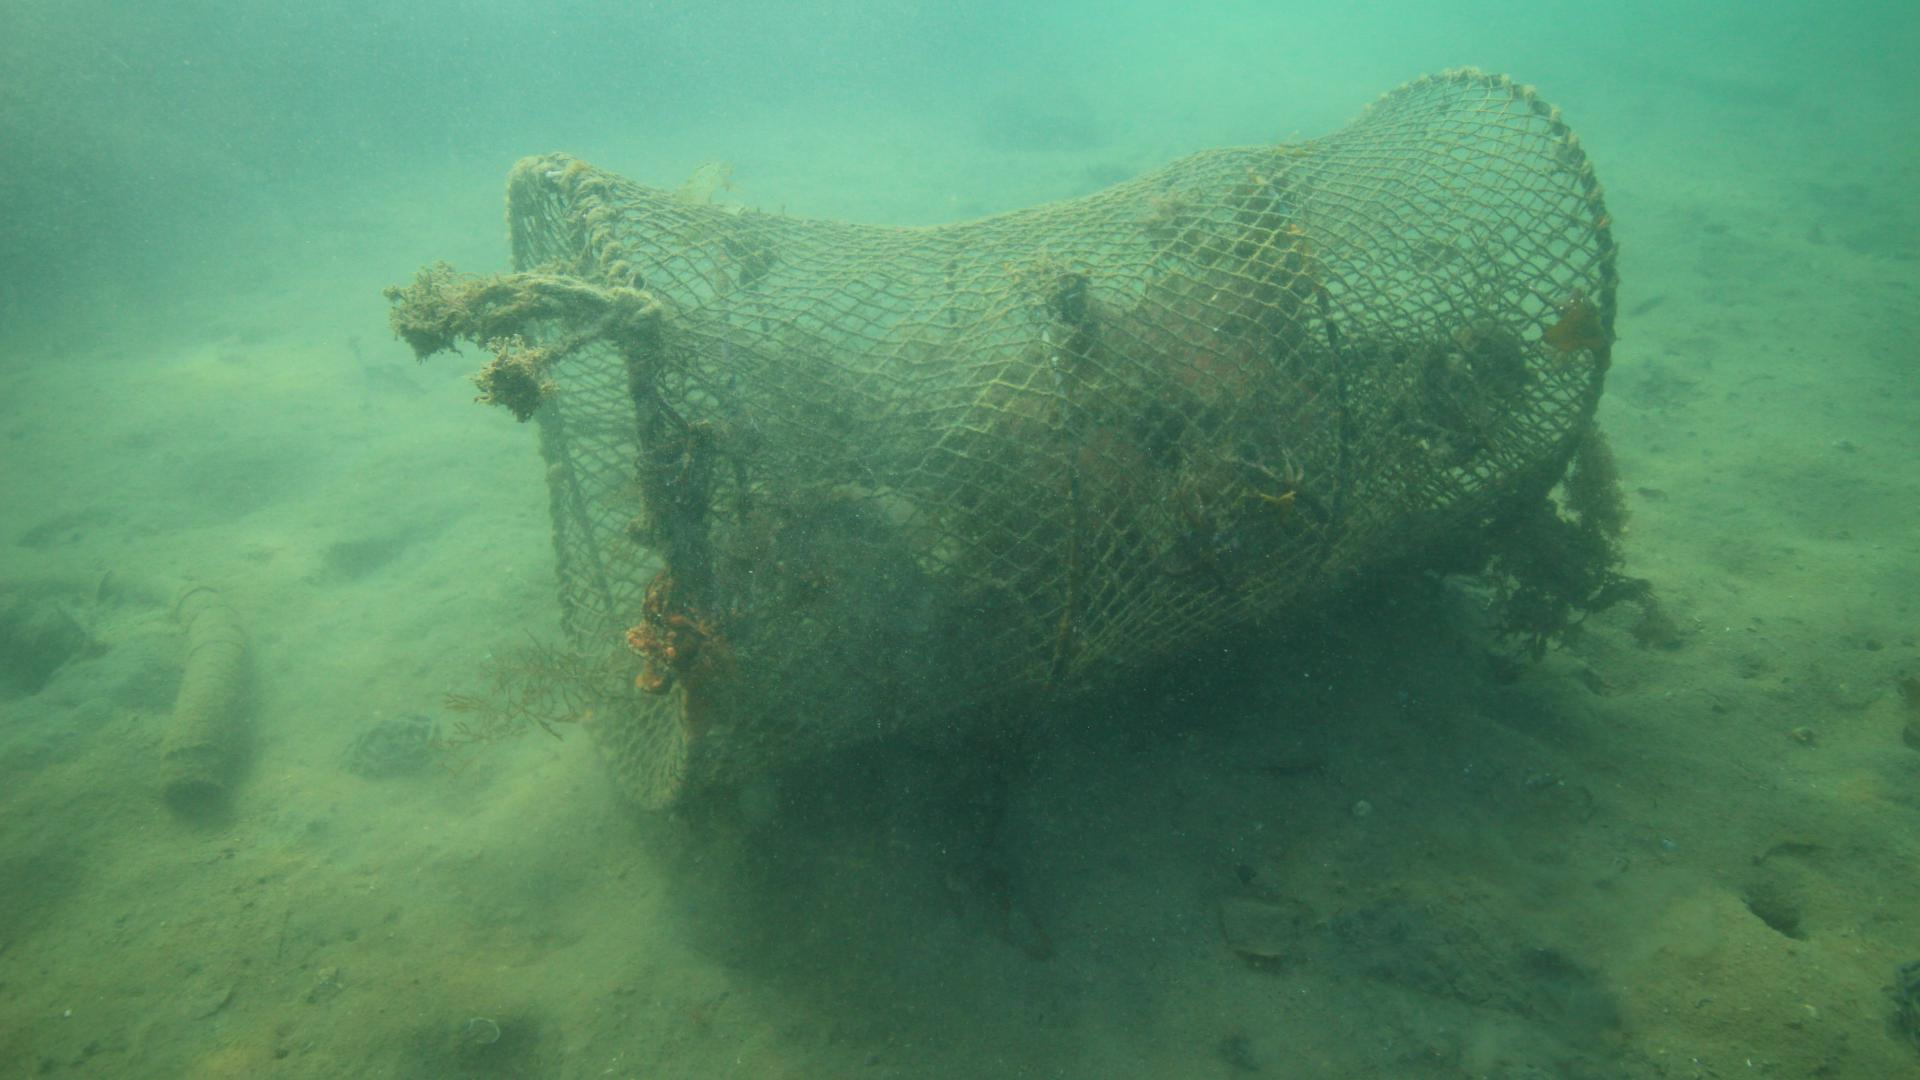spring fish trap: (504, 67, 1619, 814)
